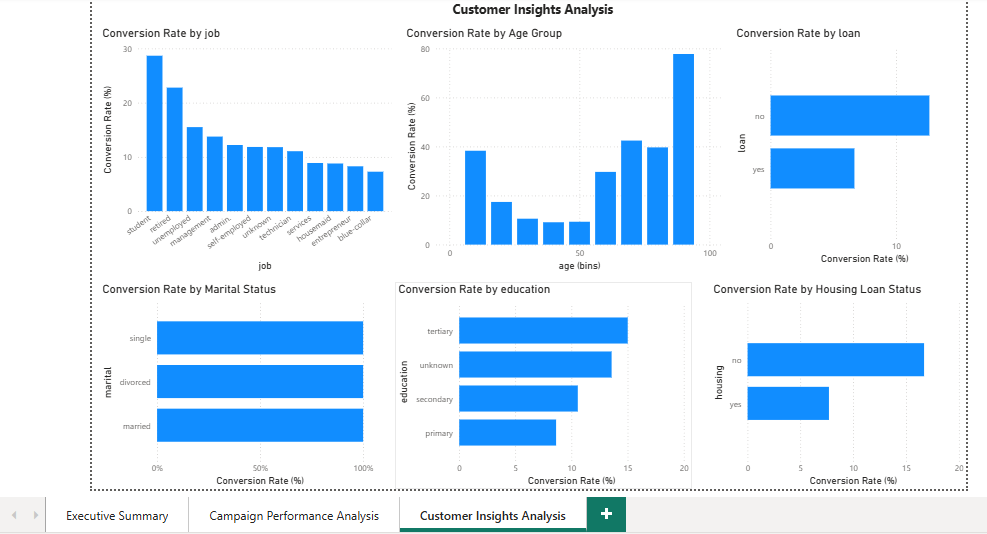

Layout of this report page (visuals, bound fields, positions):
{"tool":"powerbi","page":{"name":"Customer Insights Analysis","canvas":[1280,720],"ordinal":2},"visuals":[{"type":"textbox","box":[10.1,0,1269.9,42],"z":0},{"type":"clusteredColumnChart","title":"Conversion Rate by job","fields":{"Category":["bank_marketing_cleaned.job"],"Y":["bank_marketing_cleaned.Conversion Rate (%)"]},"box":[10.2,42.4,433.2,362.9],"z":1000},{"type":"clusteredBarChart","title":"Conversion Rate by education","fields":{"Category":["bank_marketing_cleaned.education"],"Y":["bank_marketing_cleaned.Conversion Rate (%)"]},"box":[443.4,417.1,434.6,302.9],"z":2000},{"type":"hundredPercentStackedBarChart","title":"Conversion Rate by Marital  Status","fields":{"Category":["bank_marketing_cleaned.marital"],"Y":["bank_marketing_cleaned.Conversion Rate (%)"]},"box":[10.1,416.6,406.5,304],"z":3000},{"type":"clusteredBarChart","title":"Conversion Rate by Housing Loan Status","fields":{"Category":["bank_marketing_cleaned.housing"],"Y":["bank_marketing_cleaned.Conversion Rate (%)"]},"box":[903.7,416.6,376.3,304],"z":4000},{"type":"clusteredColumnChart","title":"Conversion Rate by Age Group","fields":{"Y":["bank_marketing_cleaned.Conversion Rate (%)"],"Category":["bank_marketing_cleaned.age (bins)"]},"box":[455.1,42.4,472.7,362.9],"z":5000},{"type":"clusteredBarChart","title":"Conversion Rate by loan","fields":{"Category":["bank_marketing_cleaned.loan"],"Y":["bank_marketing_cleaned.Conversion Rate (%)"]},"box":[938,42.4,342.4,352.7],"z":5001}]}

Visuals, with their boxes on the page's 1280x720 design canvas (x1, y1, x2, y2). These are canvas units, not pixel positions in the 987x534 screenshot, which may show the page scaled, cropped or inside an application window:
textbox: 10, 0, 1280, 42
"Conversion Rate by job" clusteredColumnChart: 10, 42, 443, 405
"Conversion Rate by education" clusteredBarChart: 443, 417, 878, 720
"Conversion Rate by Marital  Status" hundredPercentStackedBarChart: 10, 417, 417, 721
"Conversion Rate by Housing Loan Status" clusteredBarChart: 904, 417, 1280, 721
"Conversion Rate by Age Group" clusteredColumnChart: 455, 42, 928, 405
"Conversion Rate by loan" clusteredBarChart: 938, 42, 1280, 395
